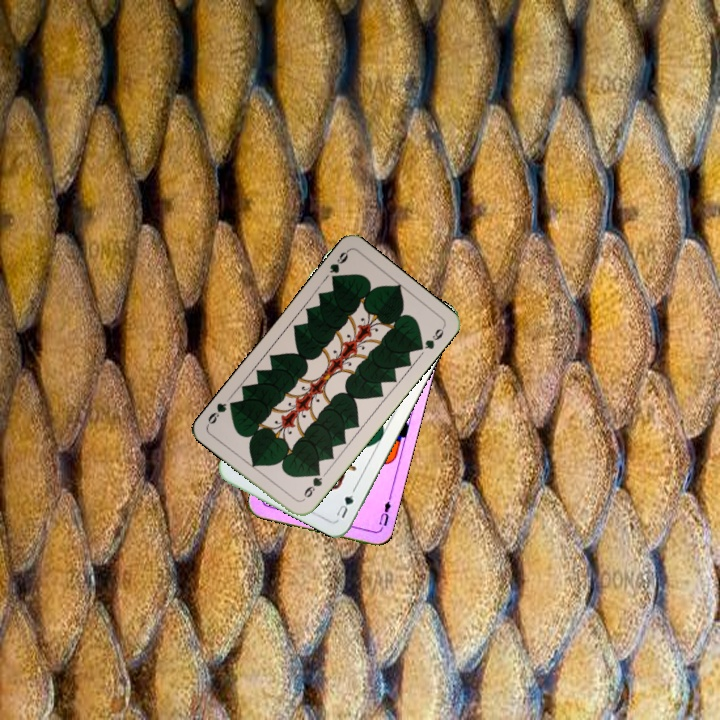EU: (375, 493, 394, 533)
G9: (298, 466, 325, 504), (325, 246, 351, 285)
GU: (331, 491, 356, 521)
